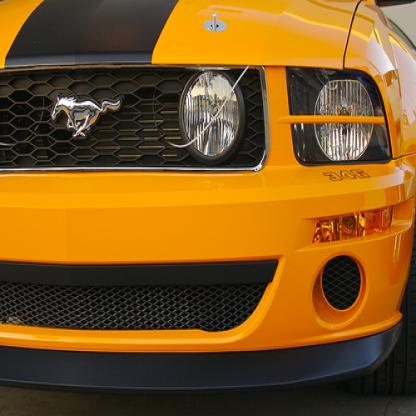car: (0, 0, 415, 395)
